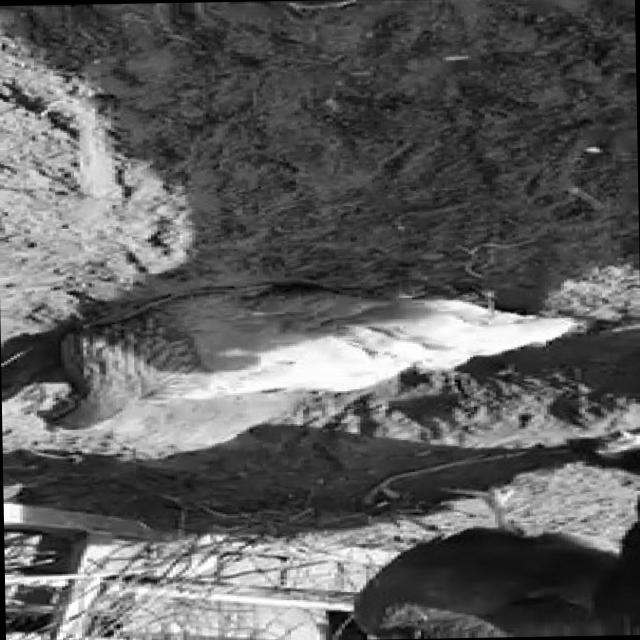stand bath: (15, 257, 547, 464)
